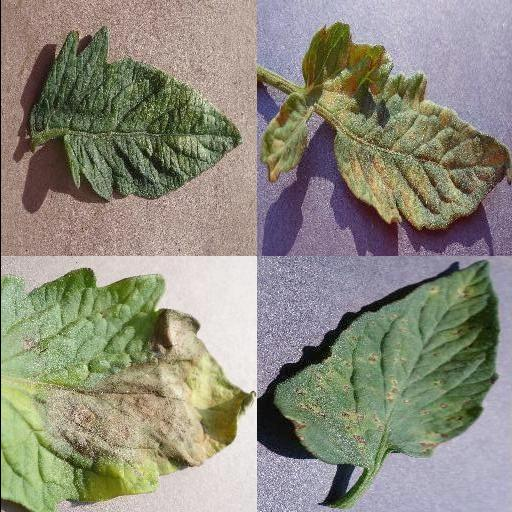Late Blight: (0, 267, 254, 512)
Leaf Mold: (256, 25, 512, 231)
Septoria: (277, 260, 500, 468)
Spider Mites: (28, 25, 242, 199)
